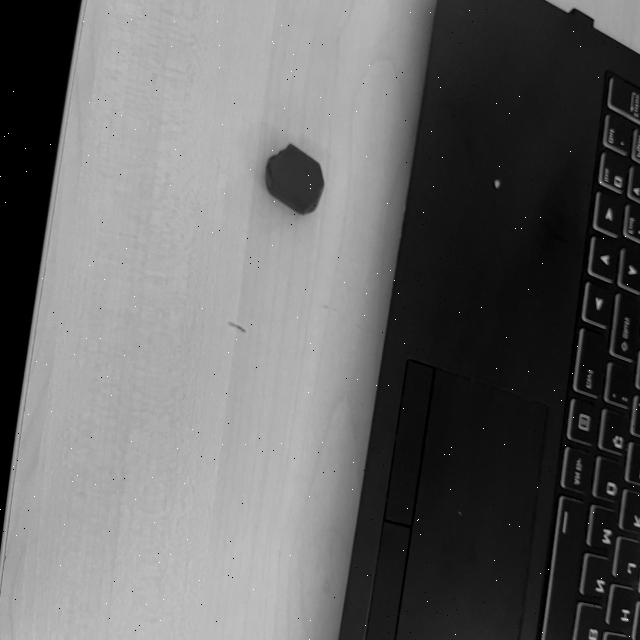eraser: (258, 139, 335, 221)
